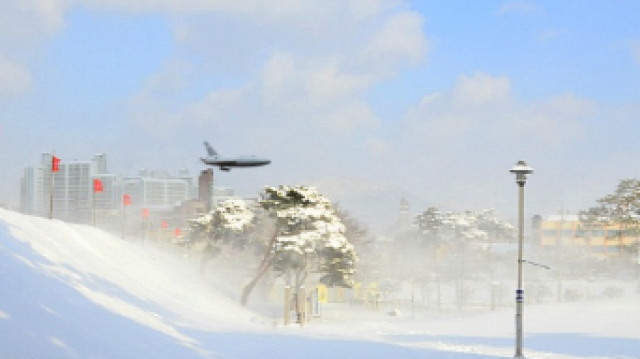military drone: (197, 139, 272, 172)
